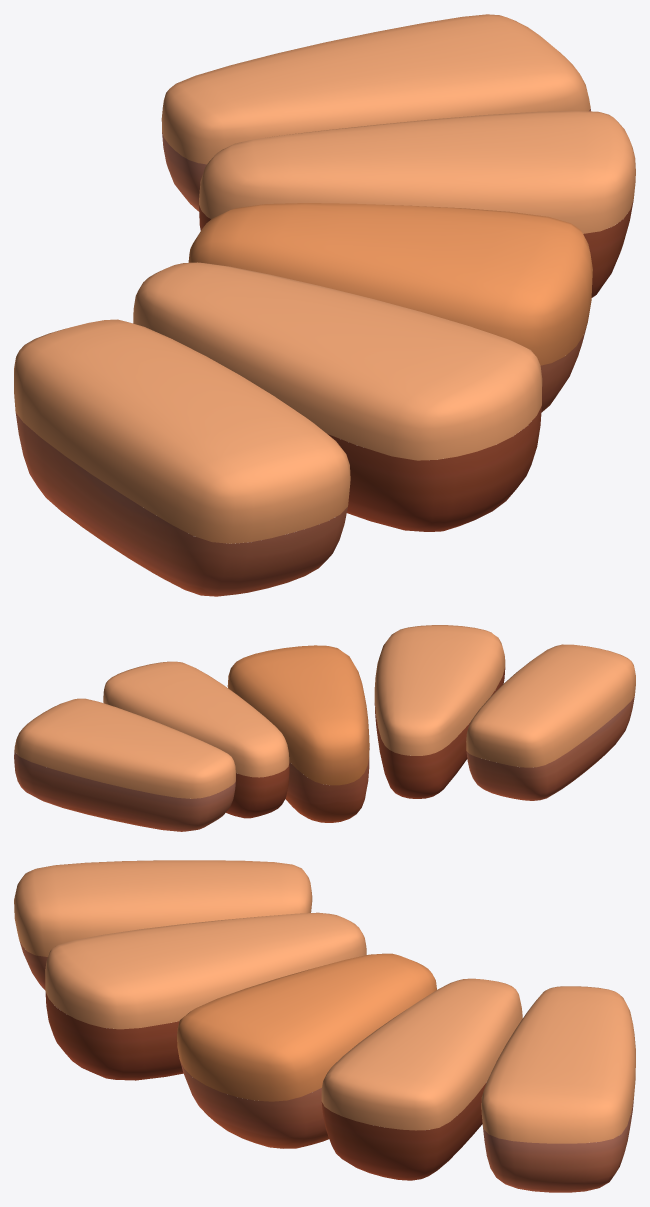
Rendered from Pathway_3.glb.
3 views of the same model, one above another, from view 1: azimuth 30°, elevation 25°; view 2: azimuth 150°, elevation 25°; view 3: azimuth 270°, elevation 25° (orthographic). The views are drawn at different scales.
Visible parts, largest first — view 1: Pathway_3; view 2: Pathway_3; view 3: Pathway_3.
Part boxes in pixels (<box>): Pathway_3: <box>14,14,635,596</box>; Pathway_3: <box>14,625,635,831</box>; Pathway_3: <box>14,860,635,1192</box>.
Bounding box in the file's own units: 7.95 × 2.08 × 8.02.
Materials: 2 (2 with a texture image).
